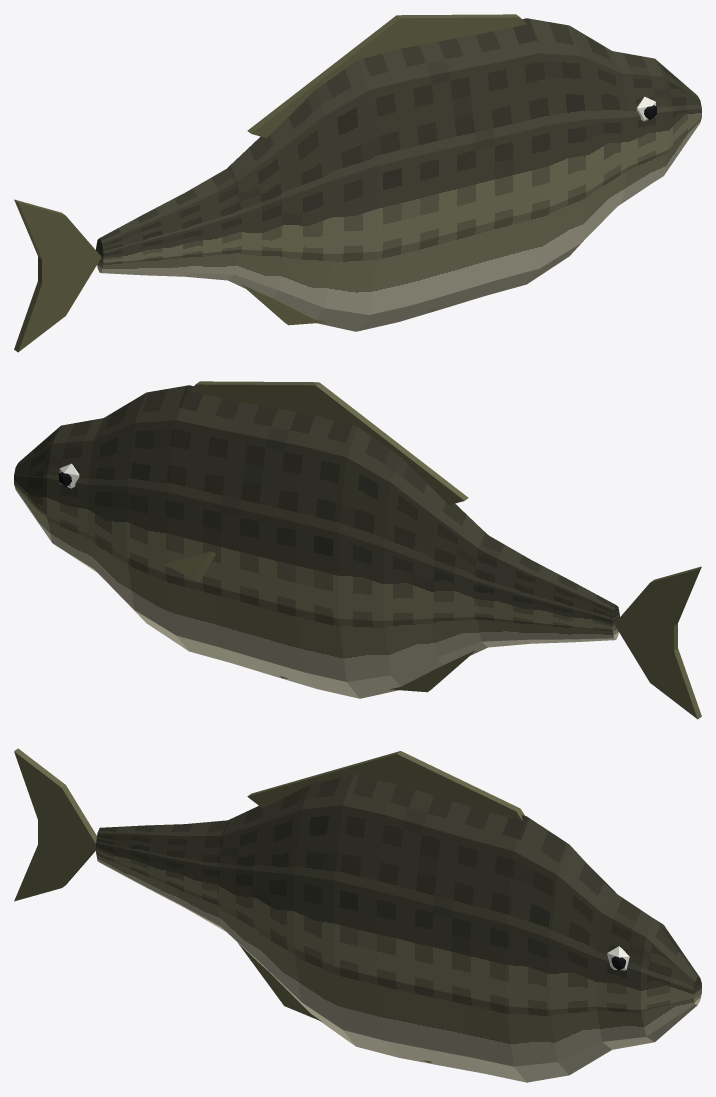
File: old_mother_bream.glb
3 views of the same model, one above another, from view 1: azimuth 30°, elevation 25°; view 2: azimuth 150°, elevation 25°; view 3: azimuth 330°, elevation 25° (orthographic).
Visible parts, largest first — view 1: fish_old_mother_bream; view 2: fish_old_mother_bream; view 3: fish_old_mother_bream.
Part boxes in pixels (box(x1,y1,x2,y2)): fish_old_mother_bream: box(14, 14, 701, 352); fish_old_mother_bream: box(14, 381, 701, 719); fish_old_mother_bream: box(14, 748, 701, 1082).
Size of the model in its own units: 1.14 by 0.4881 by 0.1527.
4 materials, 1 textured.
